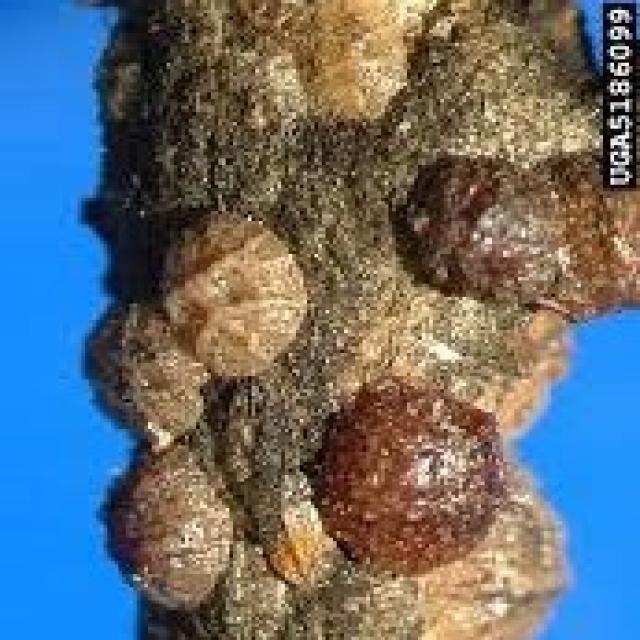Black Scale: (92, 221, 303, 637), (307, 376, 514, 574), (396, 155, 559, 297)
